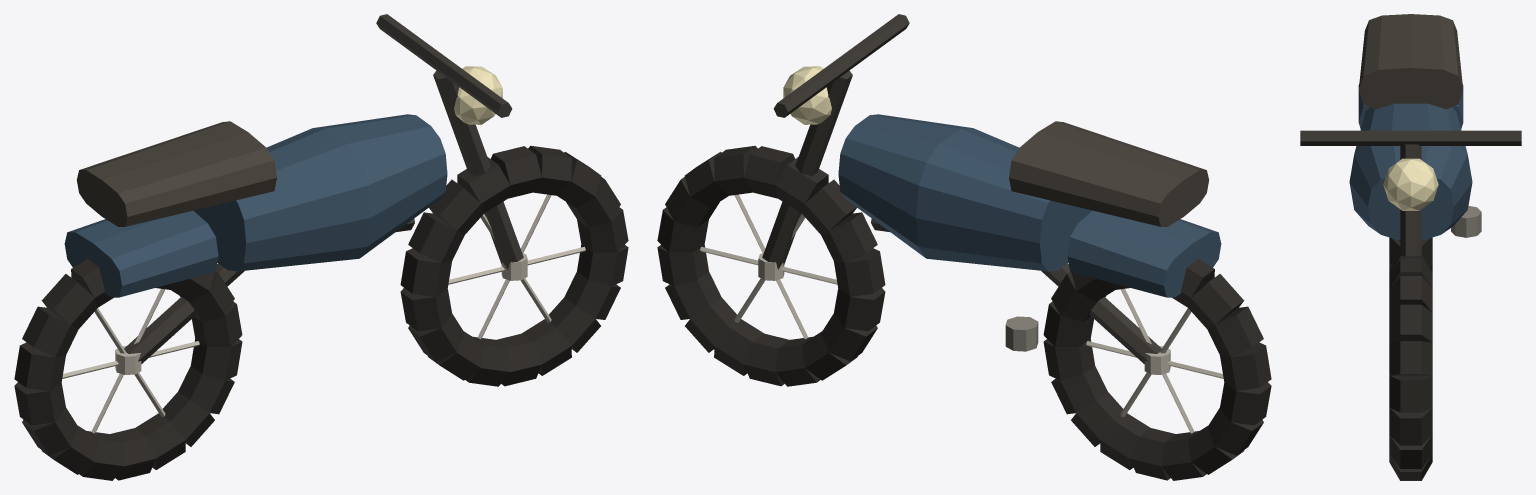
Rendered from motosiklet-lacivert.glb.
The picture shows the model from 3 angles, left to right: view 1: azimuth 30°, elevation 25°; view 2: azimuth 150°, elevation 25°; view 3: azimuth 270°, elevation 25°; orthographic projection. The views are drawn at different scales.
Parts seen in each view (by area): view 1: lastik, a_lacivert, ic, demir, jant, far; view 2: lastik, a_lacivert, ic, demir, jant, far, tampon; view 3: lastik, a_lacivert, ic, demir, far, tampon.
Part boxes in pixels (box(x1,y1,x2,y2)): lastik: box(14, 145, 628, 480); a_lacivert: box(64, 114, 447, 297); ic: box(77, 121, 276, 226); demir: box(124, 14, 523, 363); jant: box(62, 194, 585, 433); far: box(454, 66, 502, 124); lastik: box(657, 145, 1271, 480); a_lacivert: box(838, 114, 1221, 297); ic: box(1009, 121, 1208, 226); demir: box(762, 14, 1161, 363); jant: box(700, 194, 1223, 433); far: box(783, 66, 831, 124); tampon: box(1005, 316, 1038, 351); lastik: box(1389, 237, 1432, 480); a_lacivert: box(1349, 84, 1472, 239); ic: box(1358, 14, 1463, 109); demir: box(1300, 130, 1521, 256); far: box(1383, 158, 1438, 210); tampon: box(1451, 206, 1481, 237).
Bounding box in the file's own units: 2.06 × 1.1 × 0.72.
